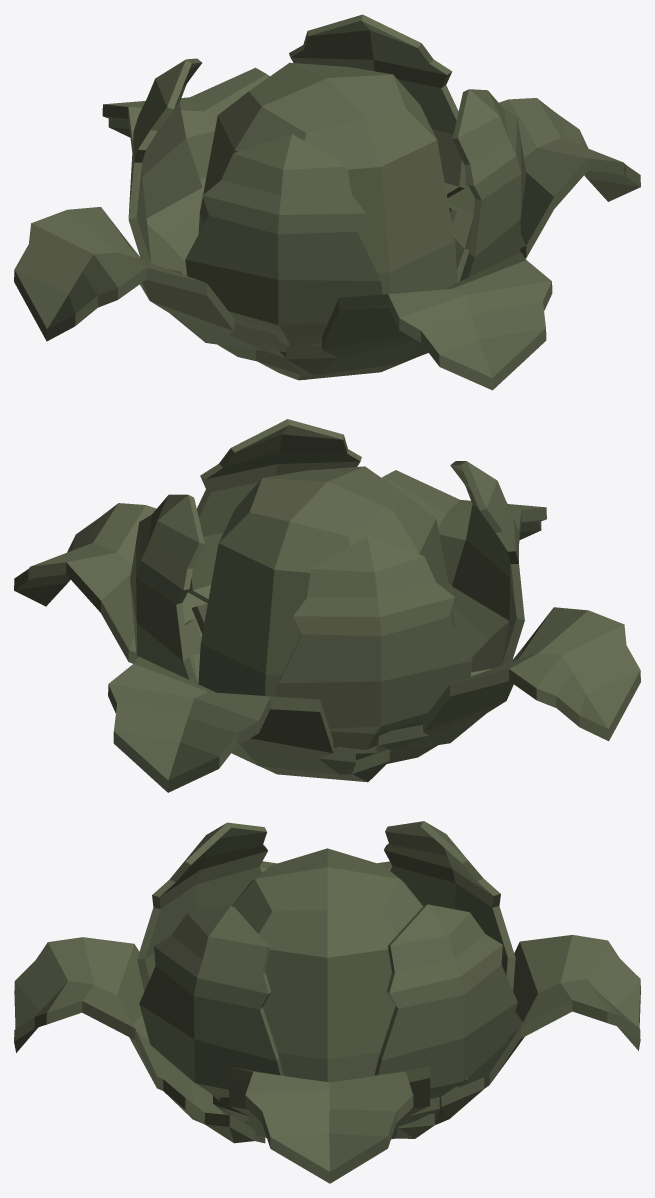
File: Lettuce_4.gltf
3 views of the same model, one above another, from view 1: azimuth 30°, elevation 25°; view 2: azimuth 150°, elevation 25°; view 3: azimuth 270°, elevation 25° (orthographic). The views are drawn at different scales.
Visible parts, largest first — view 1: Lettuce_4; view 2: Lettuce_4; view 3: Lettuce_4.
Boxes of the visible parts, x1,y1,x2,y2 form: Lettuce_4: [14, 14, 640, 390]; Lettuce_4: [14, 419, 640, 792]; Lettuce_4: [14, 821, 640, 1183].
Bounding box in the file's own units: 1.04 × 0.4742 × 1.04.
